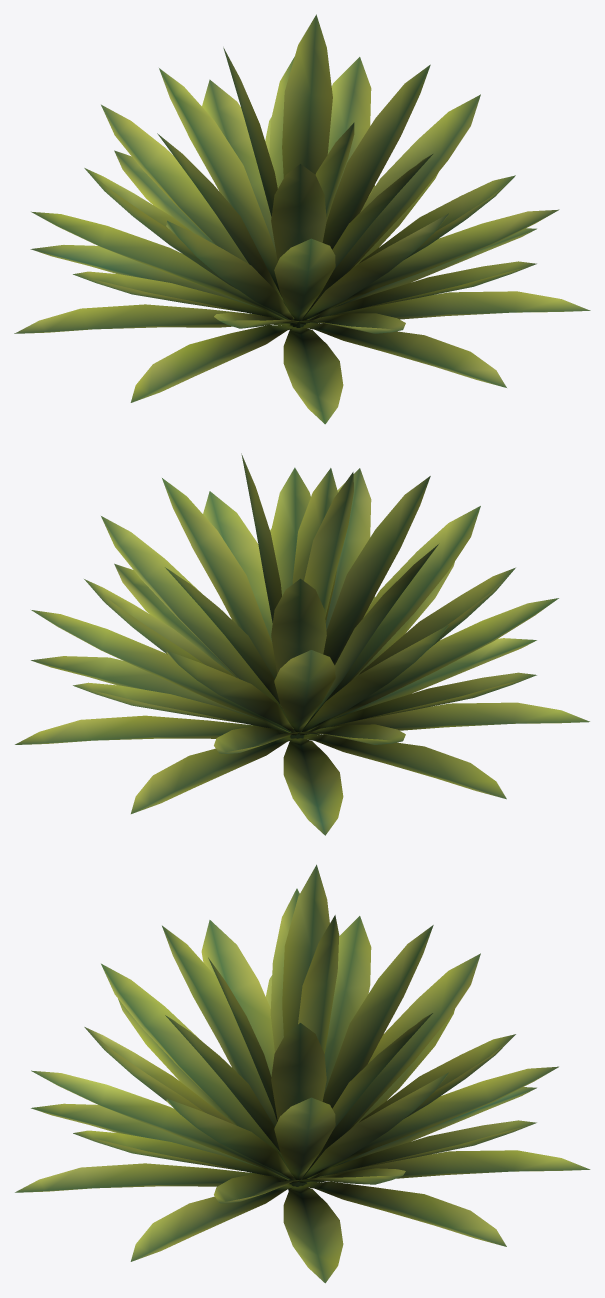
The model's file is plants-cacti-succulents-agave_v1.glb.
3 views of the same model, one above another, from view 1: azimuth 30°, elevation 25°; view 2: azimuth 150°, elevation 25°; view 3: azimuth 270°, elevation 25° (orthographic).
Parts seen in each view (by area): view 1: Agave_v1; view 2: Agave_v1; view 3: Agave_v1.
Part boxes in pixels (x1=…): Agave_v1: x1=14, y1=14, x2=590, y2=424; Agave_v1: x1=15, y1=453, x2=589, y2=835; Agave_v1: x1=15, y1=864, x2=590, y2=1283.
Bounding box in the file's own units: 1.2 × 0.7421 × 1.2.
